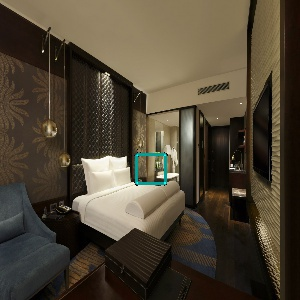square: (133, 151, 169, 188)
